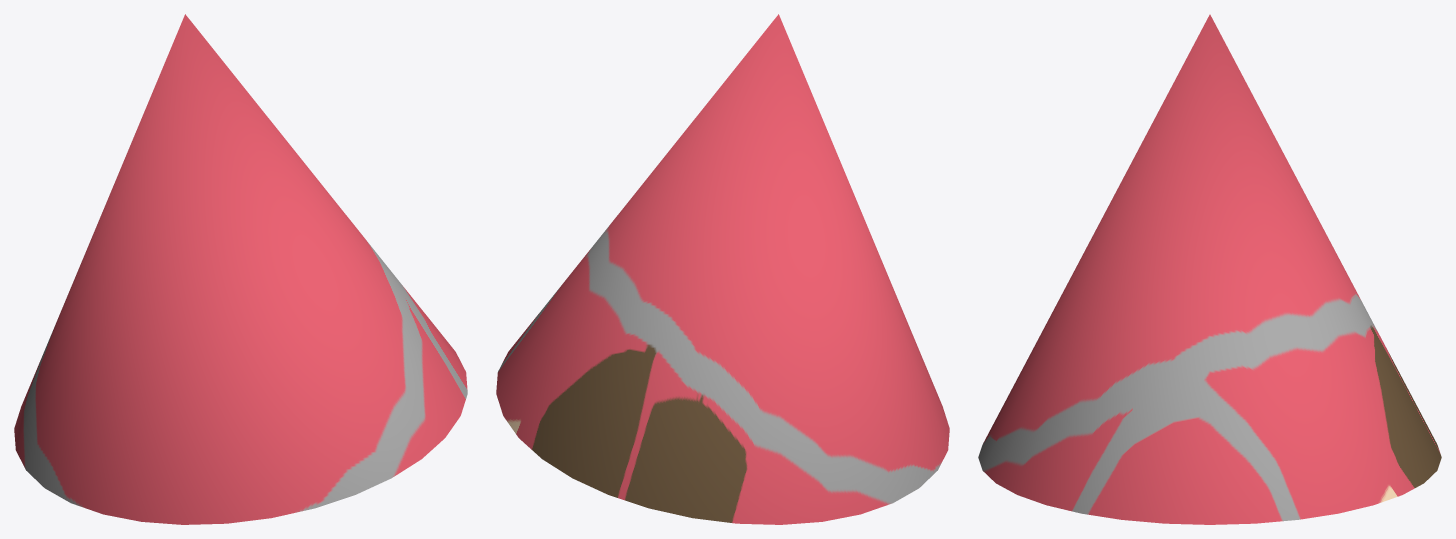
The model's file is PartyHat.glb.
The picture shows the model from 3 angles, left to right: view 1: azimuth 30°, elevation 25°; view 2: azimuth 150°, elevation 25°; view 3: azimuth 270°, elevation 25°; orthographic projection.
Visible parts, largest first — view 1: PartyHat; view 2: PartyHat; view 3: PartyHat.
Boxes of the visible parts, left/top/right/bottom form: PartyHat: left=14, top=14, right=467, bottom=524; PartyHat: left=496, top=14, right=949, bottom=524; PartyHat: left=978, top=14, right=1441, bottom=524.
Bounding box in the file's own units: 1.05 × 1.13 × 1.06.
Materials: 1 (1 with a texture image).
